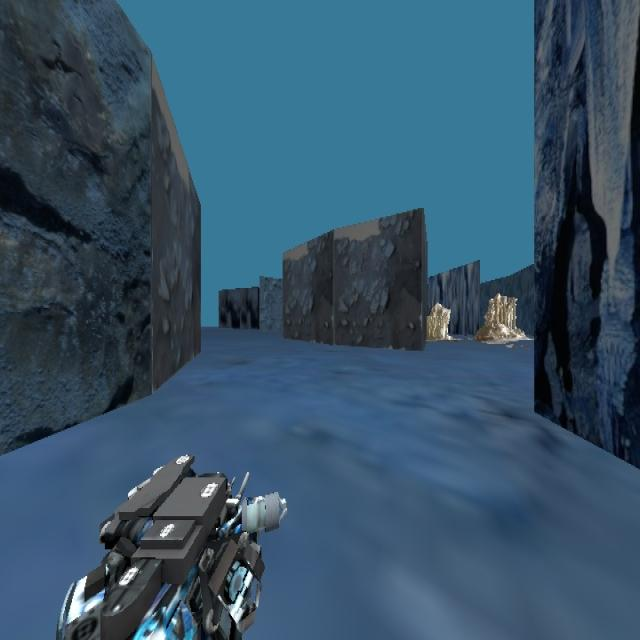Ice: (471, 261, 548, 371), (422, 284, 457, 353)
